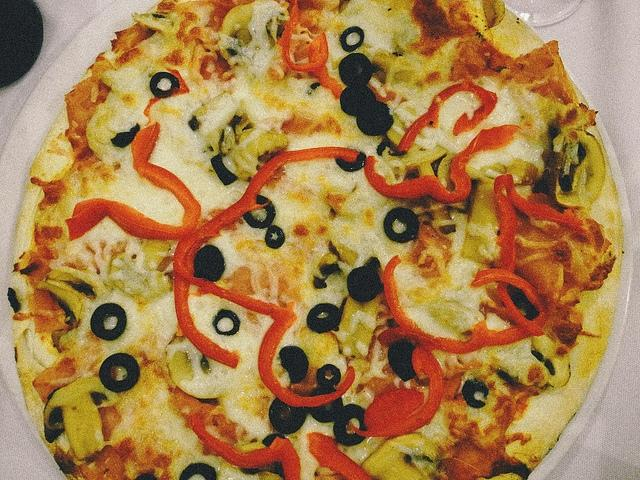bell pepper: (172, 148, 360, 407), (64, 122, 202, 240), (377, 268, 548, 353), (494, 175, 584, 336), (364, 124, 524, 204), (174, 236, 240, 369), (352, 344, 444, 437), (398, 75, 498, 153), (193, 416, 300, 480), (282, 0, 342, 99), (308, 432, 370, 479), (143, 68, 190, 126), (363, 388, 424, 432)
mushroom: (44, 376, 120, 460), (543, 129, 605, 208), (288, 326, 342, 398), (222, 125, 289, 180), (361, 435, 442, 477), (531, 335, 571, 388), (222, 3, 254, 48)
